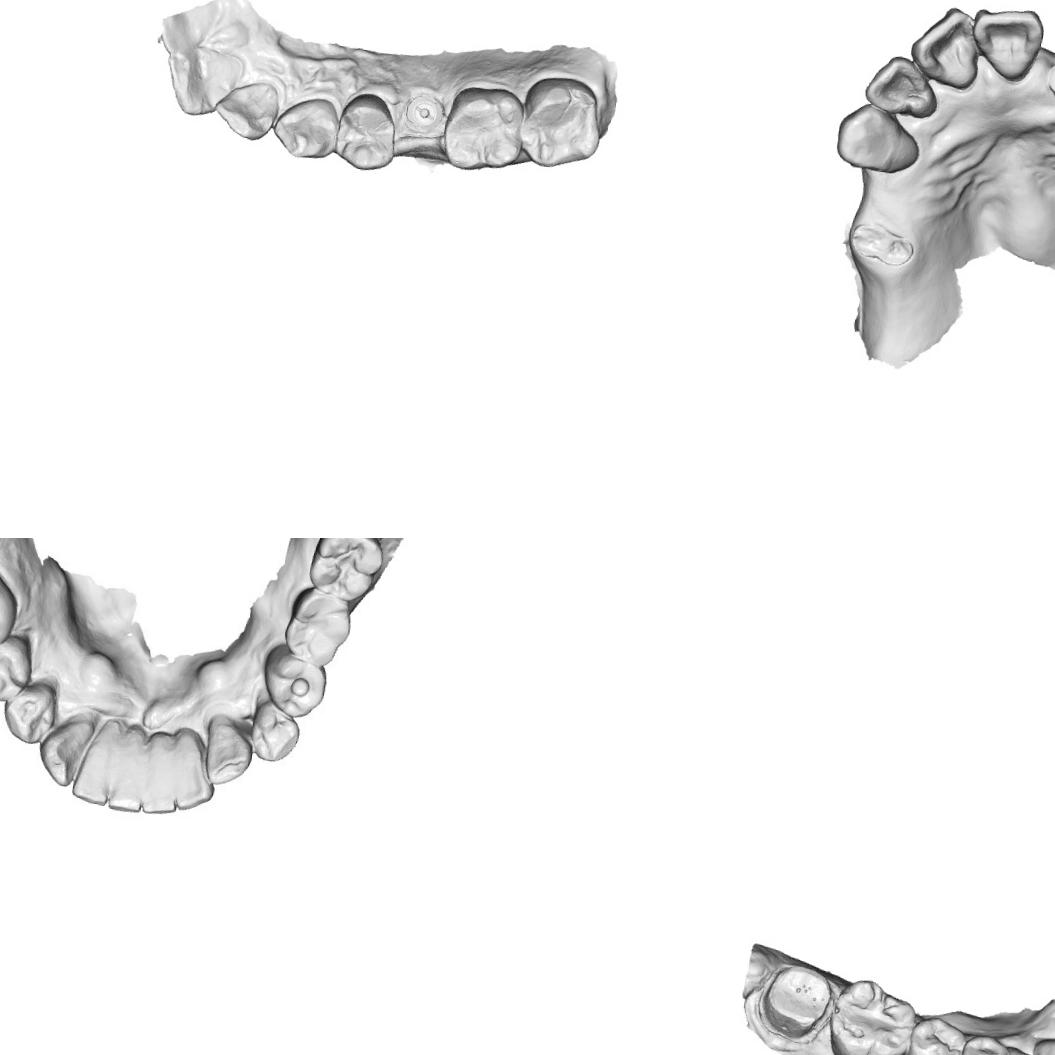canine: (831, 99, 929, 180), (270, 94, 346, 163), (36, 712, 101, 791), (202, 714, 258, 789)
crown: (750, 956, 841, 1048)
implant_minus: (400, 92, 452, 137), (1042, 59, 1055, 99)
incisor: (904, 0, 985, 93), (966, 0, 1047, 86), (164, 38, 241, 120), (860, 51, 943, 120), (70, 715, 128, 808), (136, 730, 190, 817), (167, 728, 221, 812), (215, 80, 282, 142), (110, 727, 152, 814)
molar: (517, 74, 606, 176), (438, 81, 528, 176), (821, 973, 917, 1055), (284, 586, 350, 666), (307, 538, 381, 597)
premolar: (335, 88, 398, 172), (266, 648, 328, 718), (245, 692, 305, 763), (3, 678, 63, 746), (0, 632, 41, 700), (903, 1012, 967, 1055), (952, 1030, 1015, 1055)
